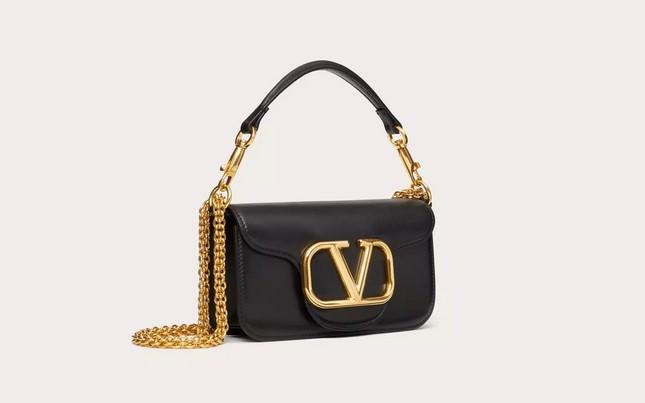VALENTINO: (302, 238, 394, 309)
